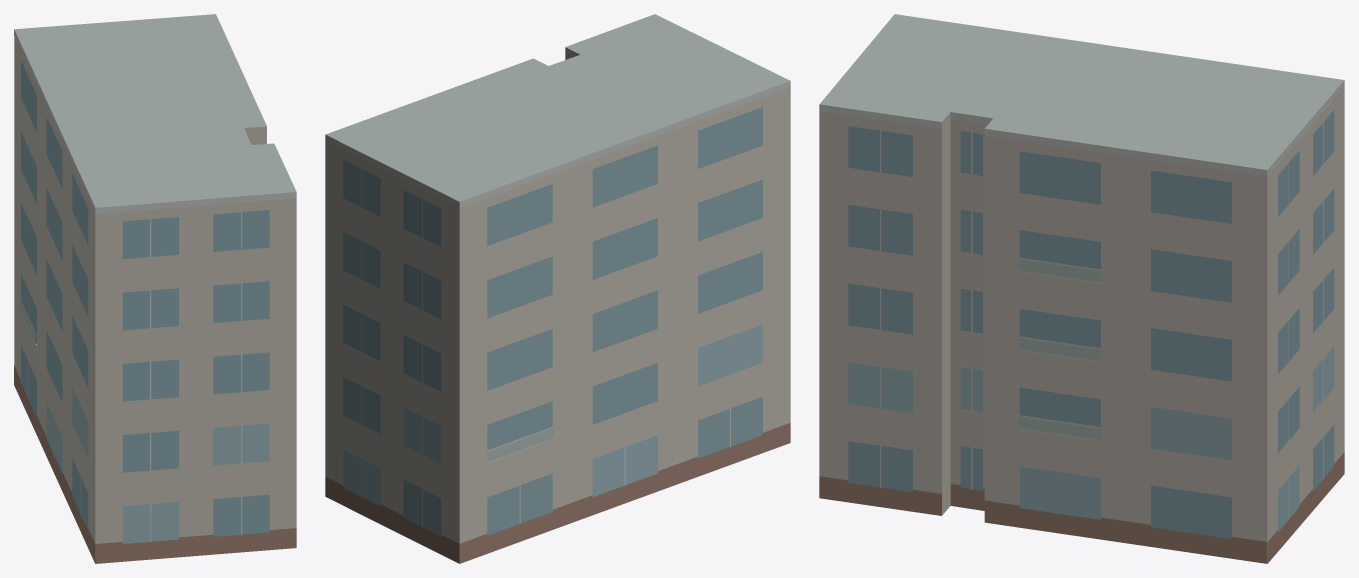
Rendered from survey-upis-32884233.glb.
3 views of the same model, side by side, from view 1: azimuth 30°, elevation 25°; view 2: azimuth 150°, elevation 25°; view 3: azimuth 270°, elevation 25° (orthographic). The views are drawn at different scales.
Visible parts, largest first — view 1: survey-upis-32884233.tmp; view 2: survey-upis-32884233.tmp; view 3: survey-upis-32884233.tmp.
Part boxes in pixels (box(x1,y1,x2,y2)): survey-upis-32884233.tmp: box(14, 14, 296, 563); survey-upis-32884233.tmp: box(325, 14, 790, 563); survey-upis-32884233.tmp: box(819, 14, 1344, 563).
Bounding box in the file's own units: 11.74 × 13.8 × 16.69.
